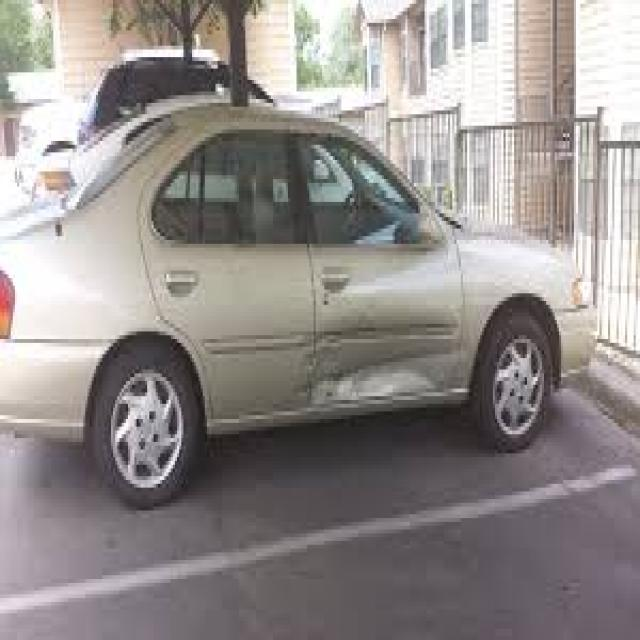minor: (297, 318, 478, 411)
